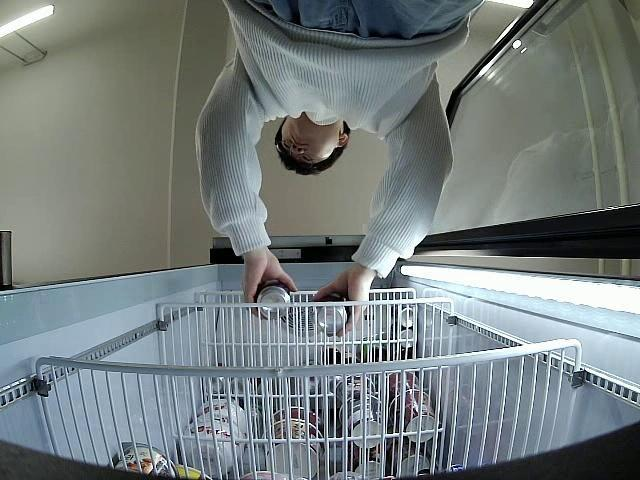14_welchsGrape: (312, 290, 352, 335), (255, 280, 292, 319)
